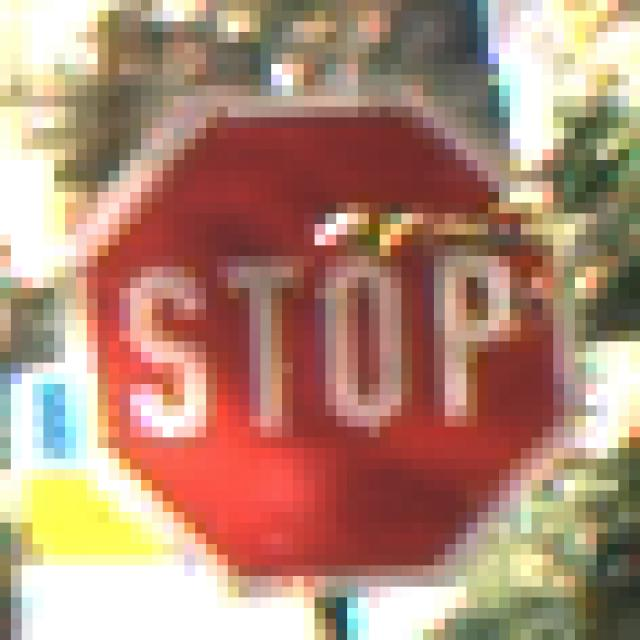STOP: (66, 65, 576, 577)
